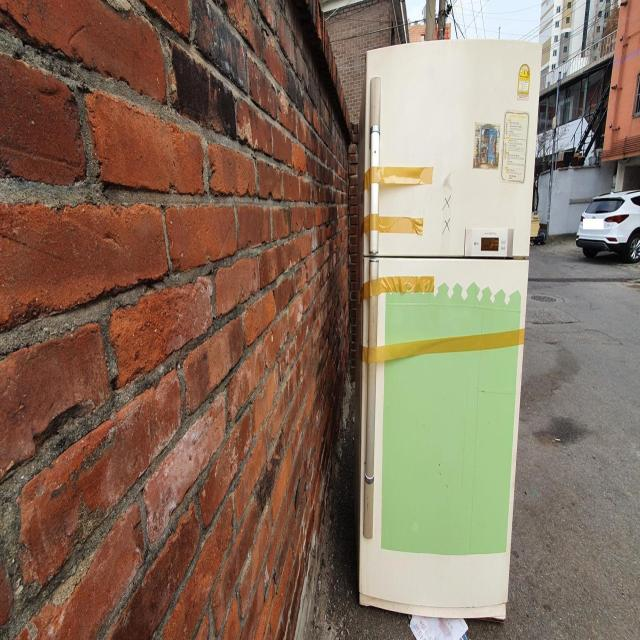refrigerator: (354, 38, 543, 622)
